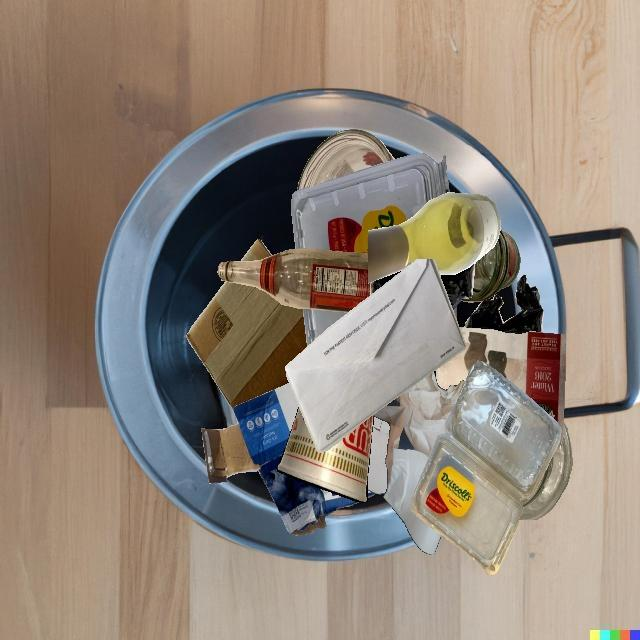cardboard: (201, 383, 359, 535), (186, 281, 307, 414)
glass: (368, 192, 500, 283), (218, 248, 370, 312), (297, 129, 395, 191), (519, 421, 572, 520), (461, 228, 520, 302)
paper: (285, 259, 466, 453), (372, 371, 465, 555), (436, 327, 566, 442), (367, 416, 390, 494)
plastic: (411, 361, 562, 575), (307, 225, 453, 347), (359, 153, 450, 225), (291, 170, 359, 251), (464, 275, 544, 334), (440, 262, 475, 310), (370, 270, 403, 295), (303, 308, 318, 347)
trash: (277, 406, 374, 502)
